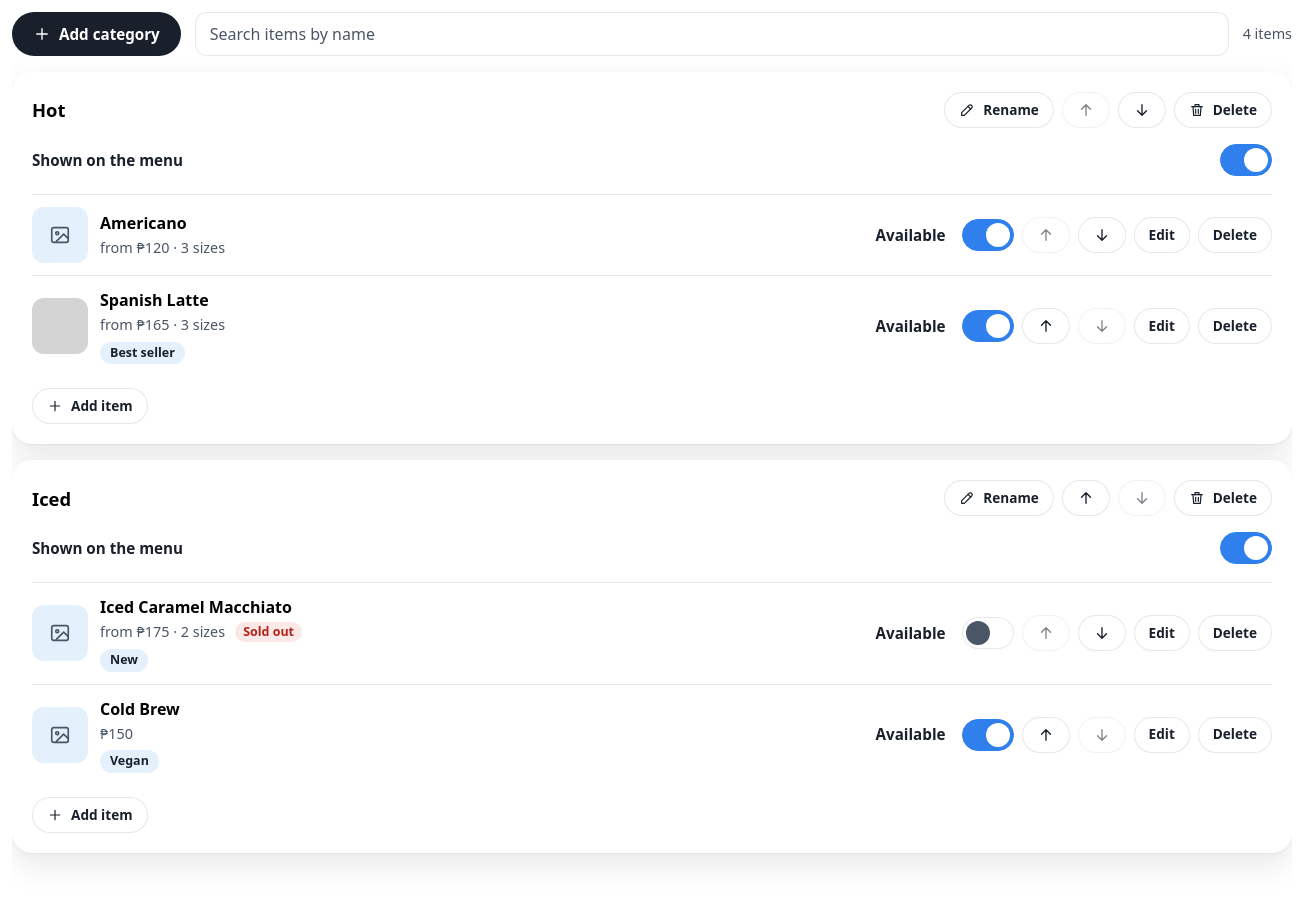
Test: ItemsTab search › keeps only the items that match and the categories that hold them
Type "cold" into the search field labelled "Search items" at point(712, 34), box [195,12,1229,56]
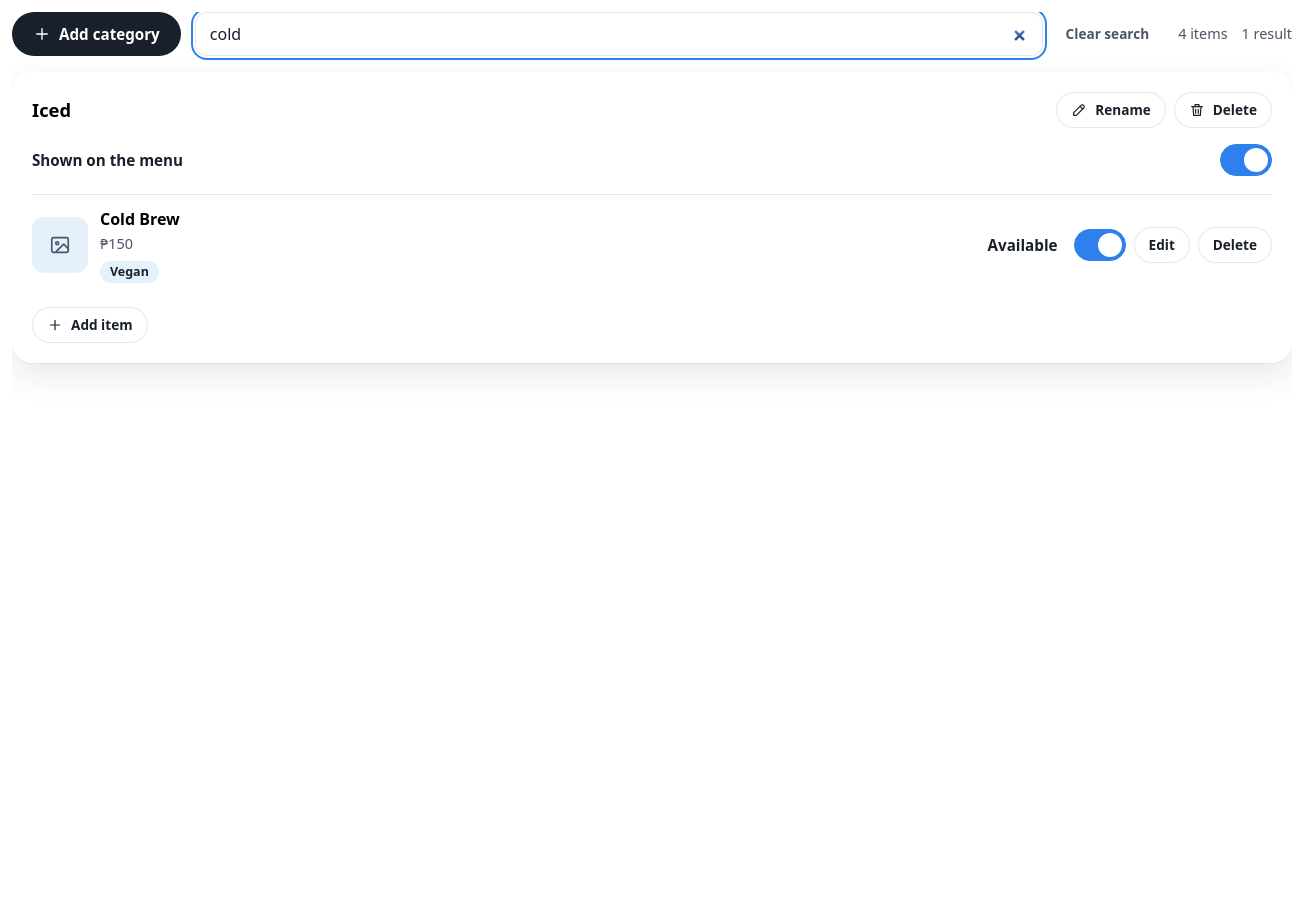
Expected: the text "Cold Brew" is shown, [100,208,180,230]
Expected: the text "Americano" is gone
Expected: the text "1 result" is shown, [1242,23,1292,45]
